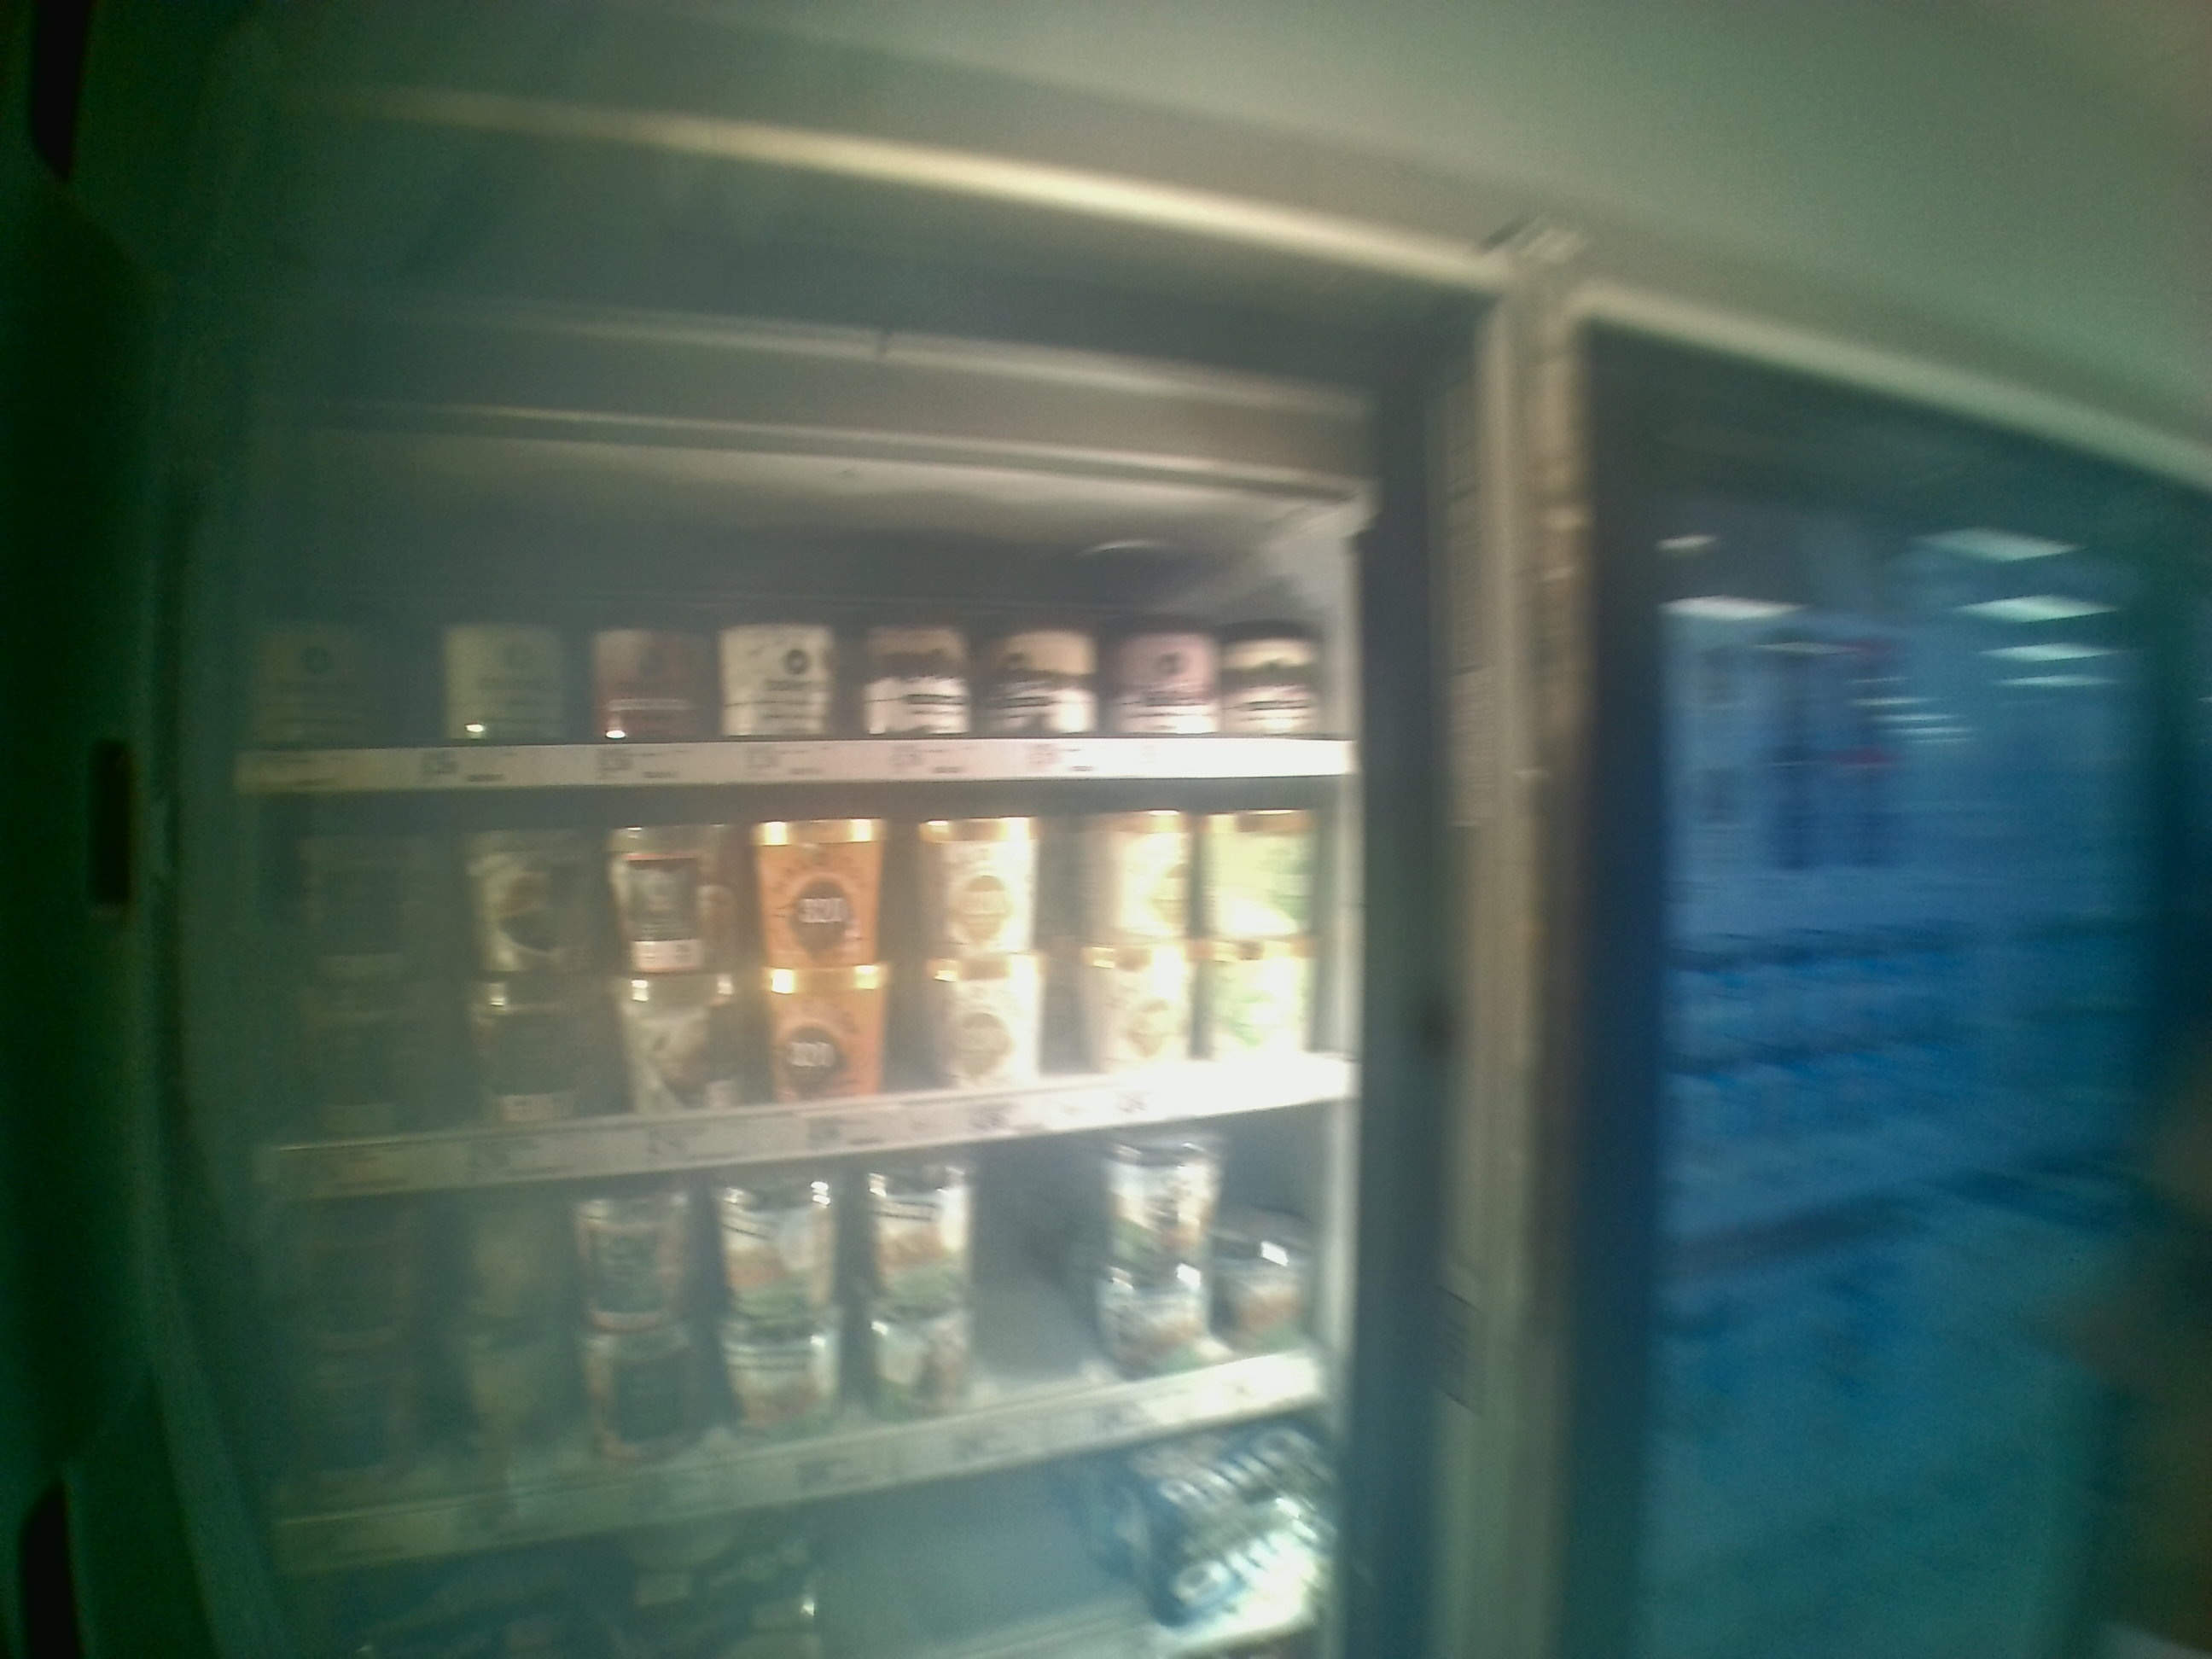shelf: (240, 779, 1371, 1194), (239, 427, 1353, 788)
